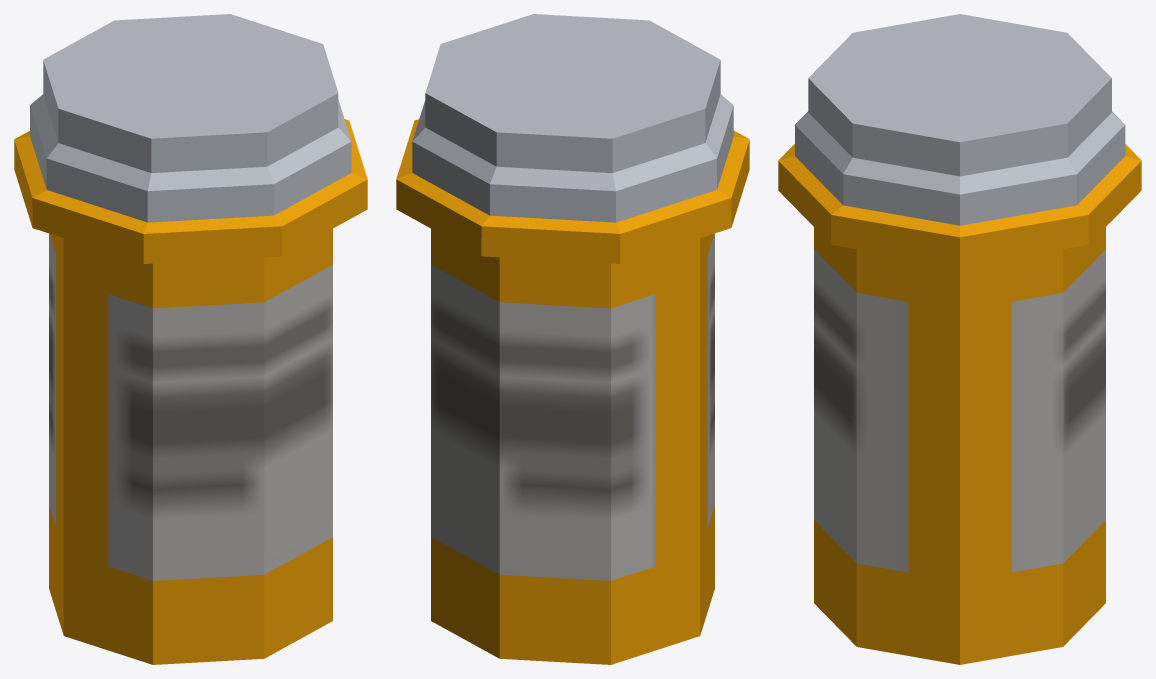
File: SM_Prop_Pills_01.fbx
3 renders of one model, left to right at view 1: azimuth 30°, elevation 25°; view 2: azimuth 150°, elevation 25°; view 3: azimuth 270°, elevation 25°, orthographic.
Parts seen in each view (by area): view 1: SM_Prop_Pills_01; view 2: SM_Prop_Pills_01; view 3: SM_Prop_Pills_01.
Boxes of the visible parts, x1,y1,x2,y2 form: SM_Prop_Pills_01: (14, 14, 367, 664); SM_Prop_Pills_01: (396, 14, 749, 664); SM_Prop_Pills_01: (778, 14, 1141, 664).
Bounding box in the file's own units: 14.58 × 23.24 × 14.58.
